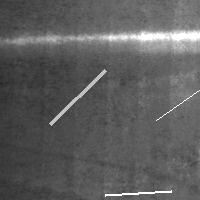scratches: (2, 27, 199, 53), (45, 65, 110, 129), (151, 85, 200, 125), (100, 186, 176, 200)
